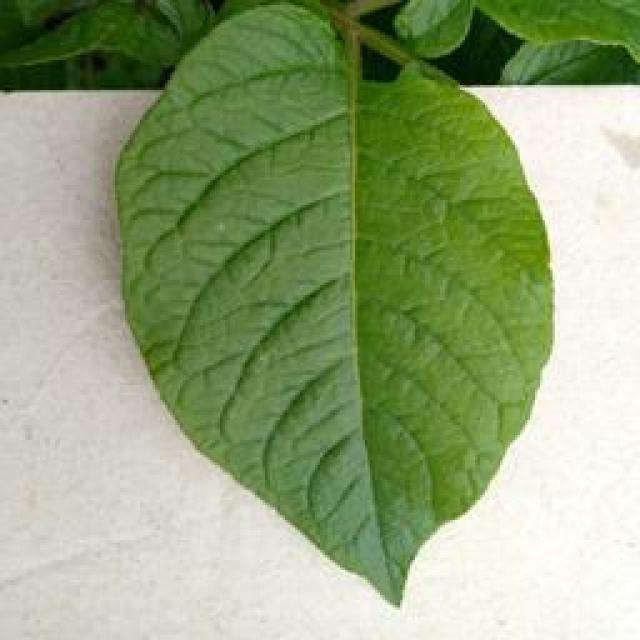healthy: (108, 0, 560, 610)
